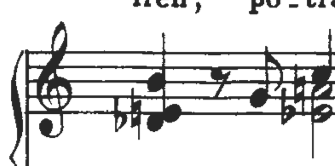treble_clef: (31, 16, 80, 147)
